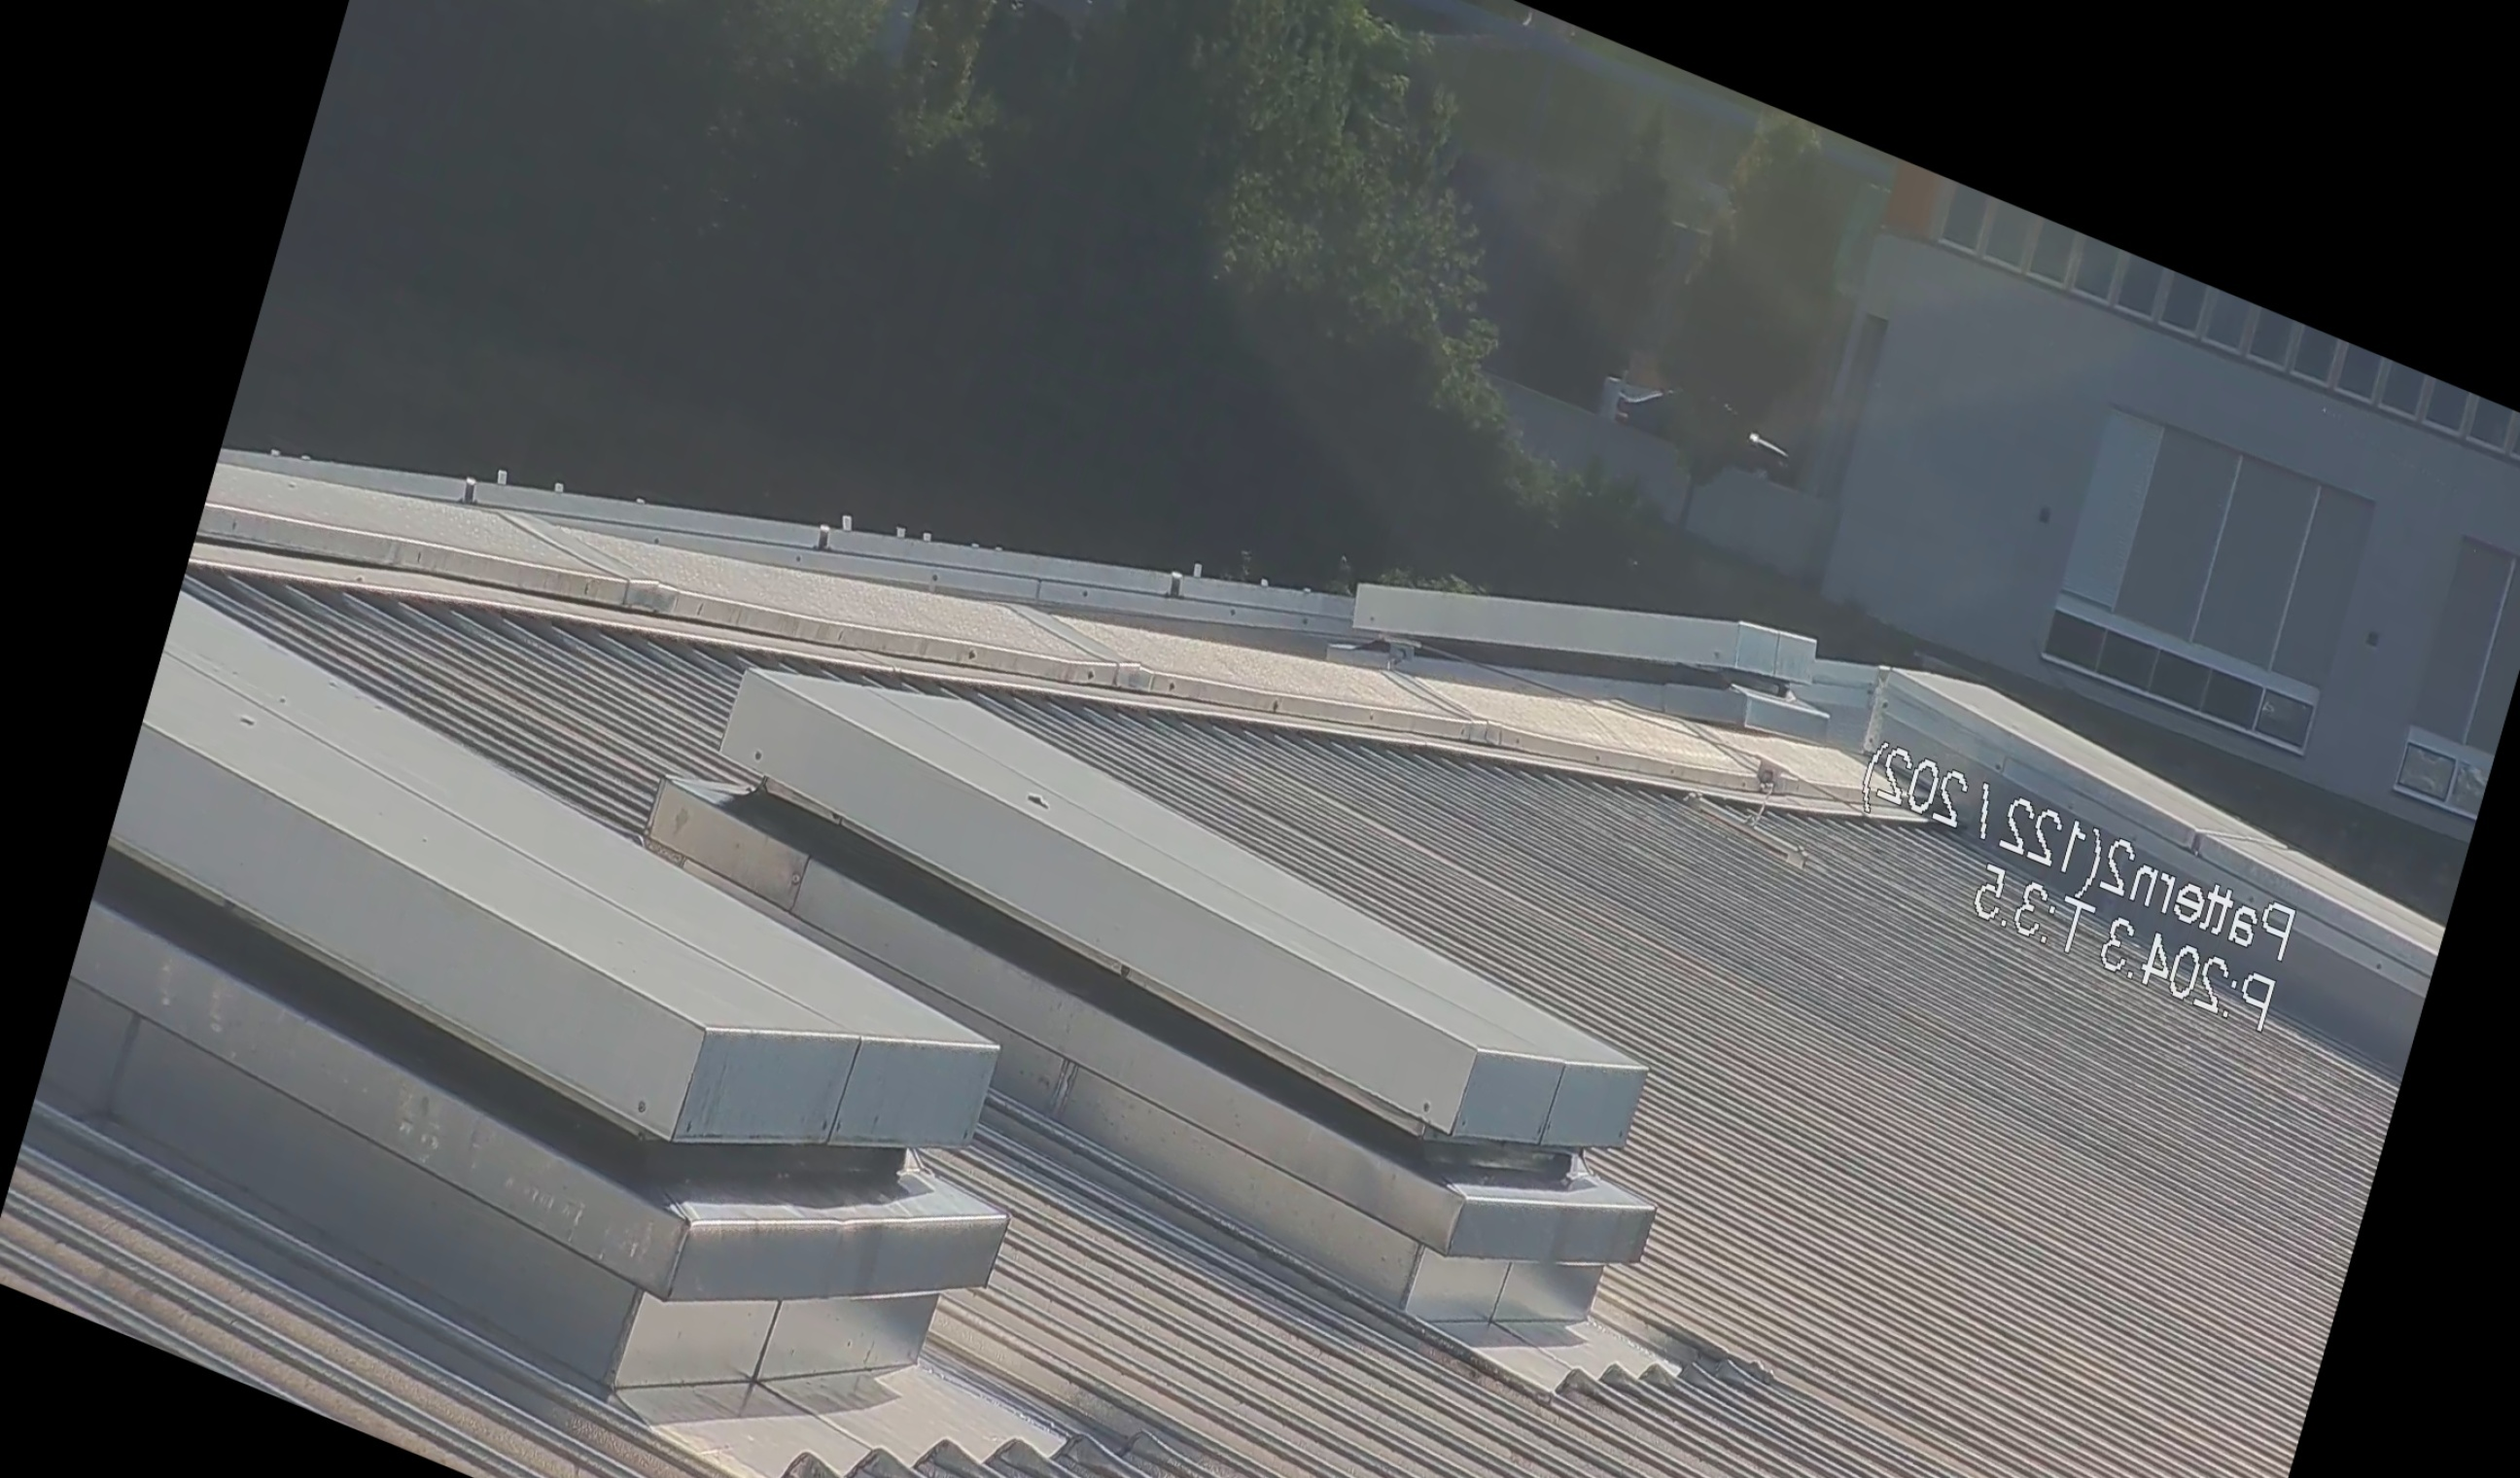Other: (1591, 331, 1808, 535)
